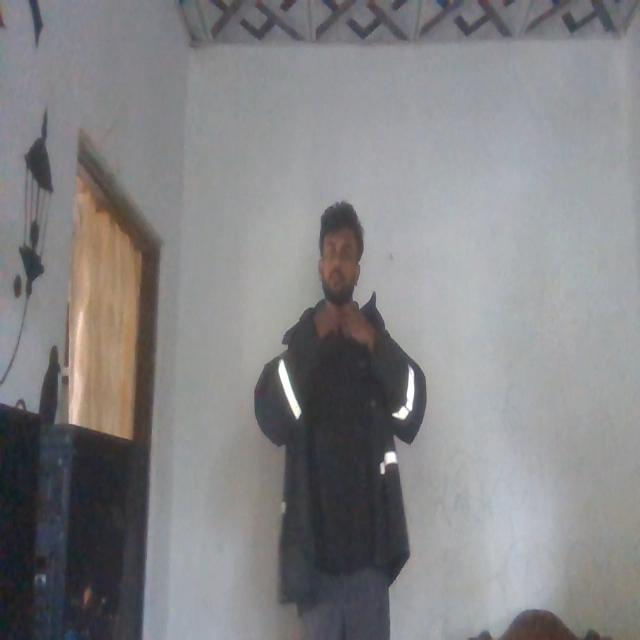Jacket_Wearer: (243, 300, 439, 569)
Person: (257, 190, 428, 640)
